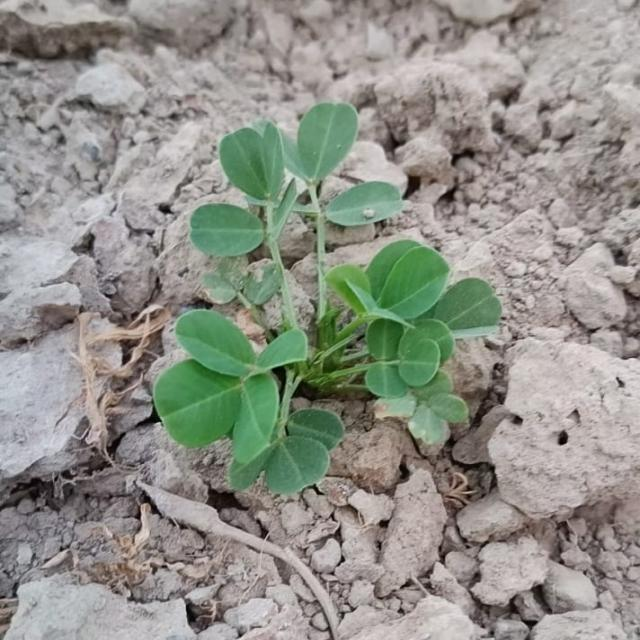plant: (153, 101, 502, 494)
